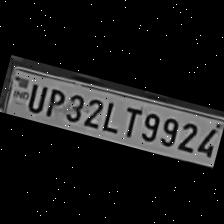2: (80, 92, 106, 130), (174, 116, 200, 154)
3: (60, 88, 86, 124)
4: (193, 122, 221, 160)
9: (136, 107, 164, 144), (154, 112, 182, 148)
L: (98, 97, 124, 135)
P: (41, 83, 66, 120)
T: (116, 102, 143, 140)
U: (22, 79, 48, 114)
